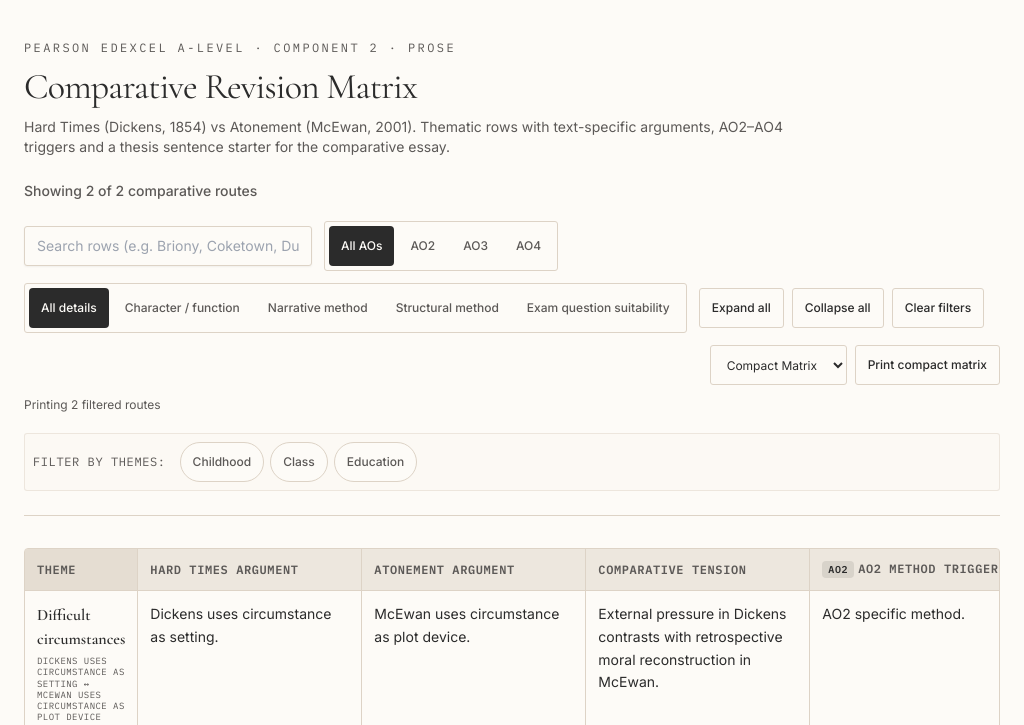
ComparativeMatrix › shows a no-results print status and clears filters from the print toolbar affordance
Expected: the text "Showing 2 of 2 comparative routes" is shown, [24, 182, 257, 199]
Click the button with aria-label "Toggle Childhood theme filter": (222, 462) [180, 442, 264, 482]
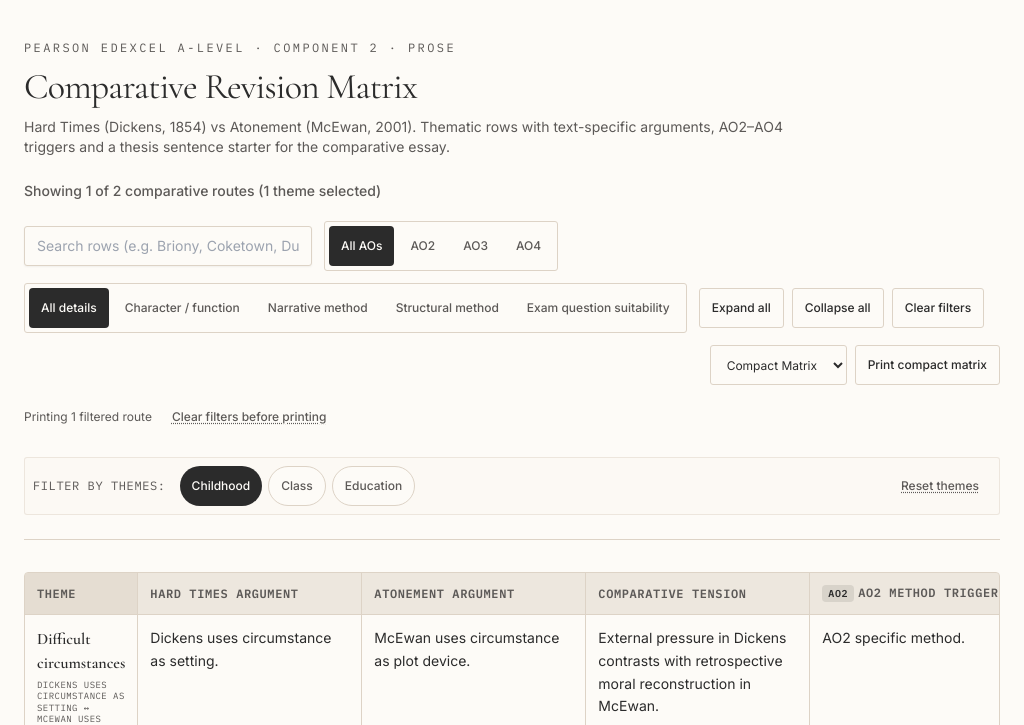
In the field named "search comparative routes": (168, 246) [24, 226, 312, 266], type "poverty"
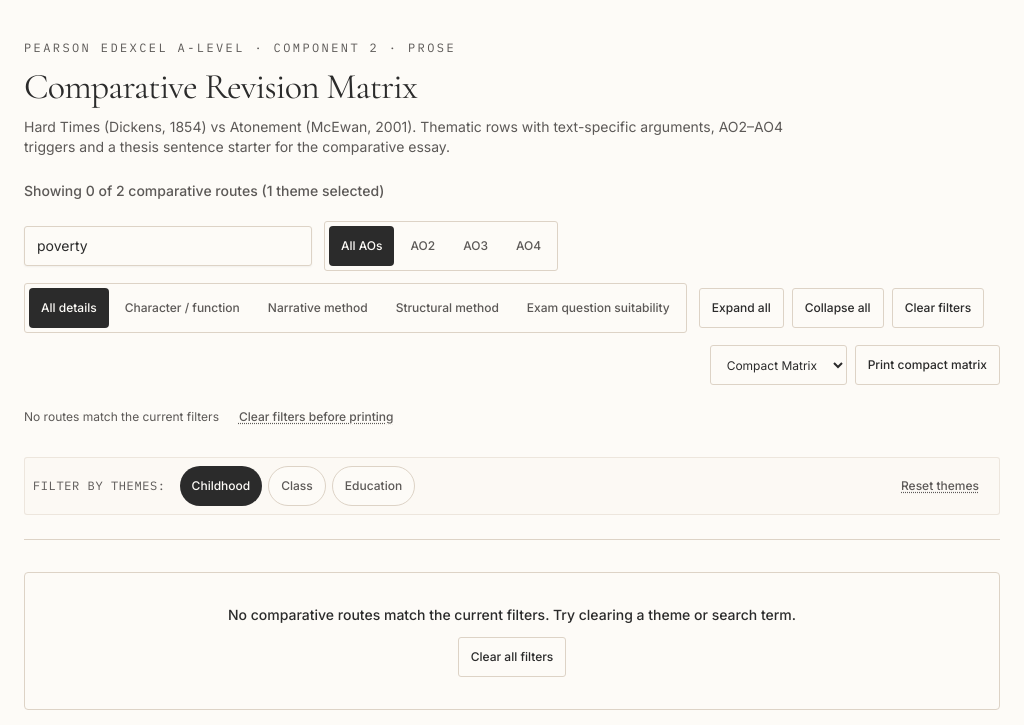
Expected: the text "Showing 0 of 2 comparative routes (1 theme selected)" is shown, [24, 182, 384, 199]
Click the button "Clear filters before printing": (316, 417) [227, 397, 406, 437]
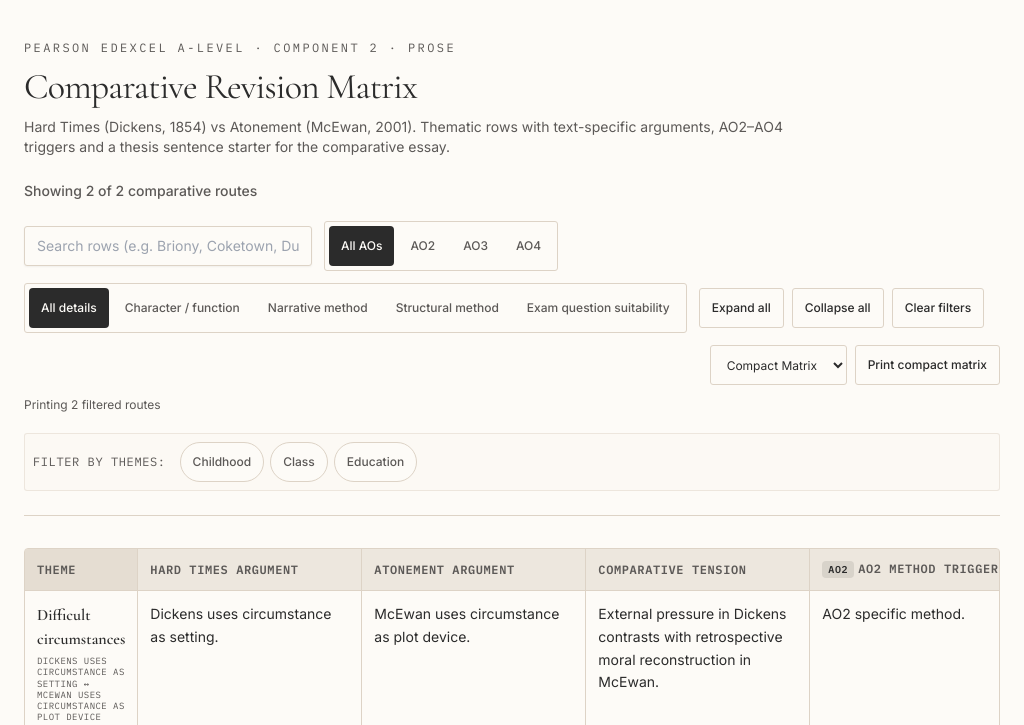
Expected: the text "Showing 2 of 2 comparative routes" is shown, [24, 182, 257, 199]
Expected: the field named "search comparative routes" is empty, [24, 226, 312, 266]
